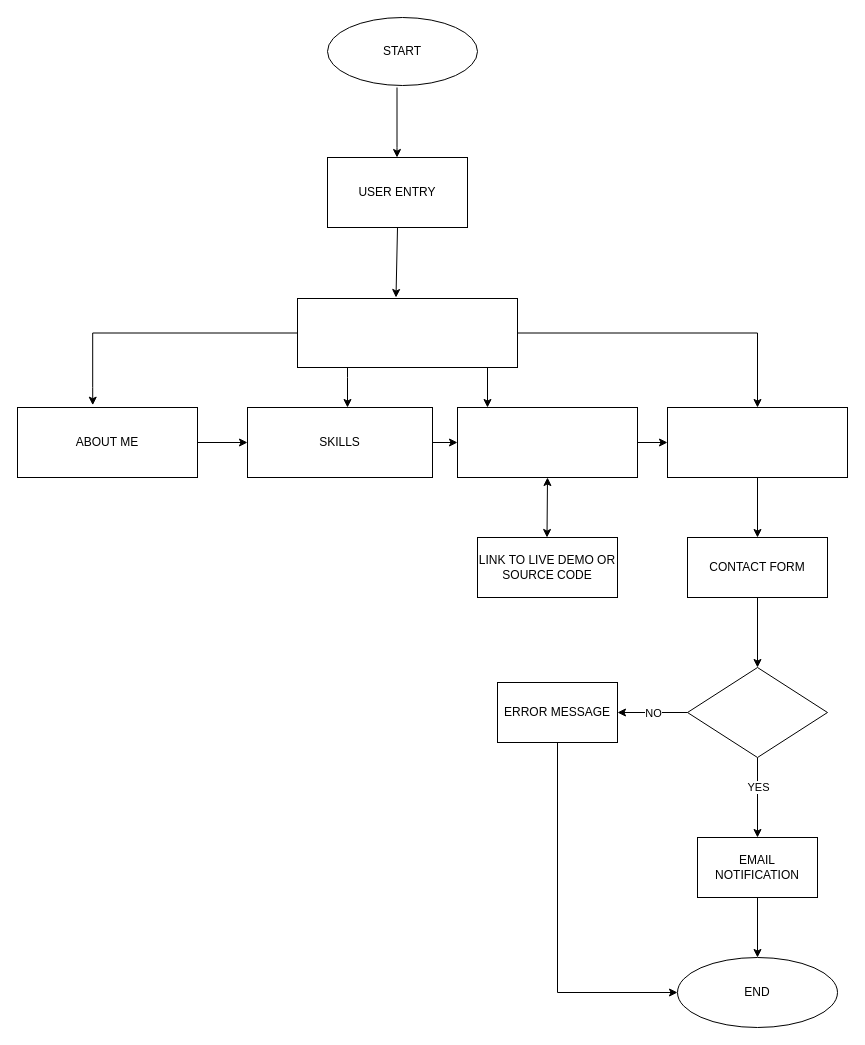
This 865x1045 diagram has some shape labels left out. The centre of each missing label's shape, as x and y in pixels:
CONTACT INFORMATION: (x=757, y=442)
FORM SUBMIT SUCCESS: (x=757, y=712)
HOMEPAGE: (x=407, y=333)
PROJECTS: (x=547, y=442)
